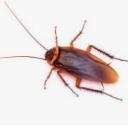cockroach: (41, 38, 120, 88)
